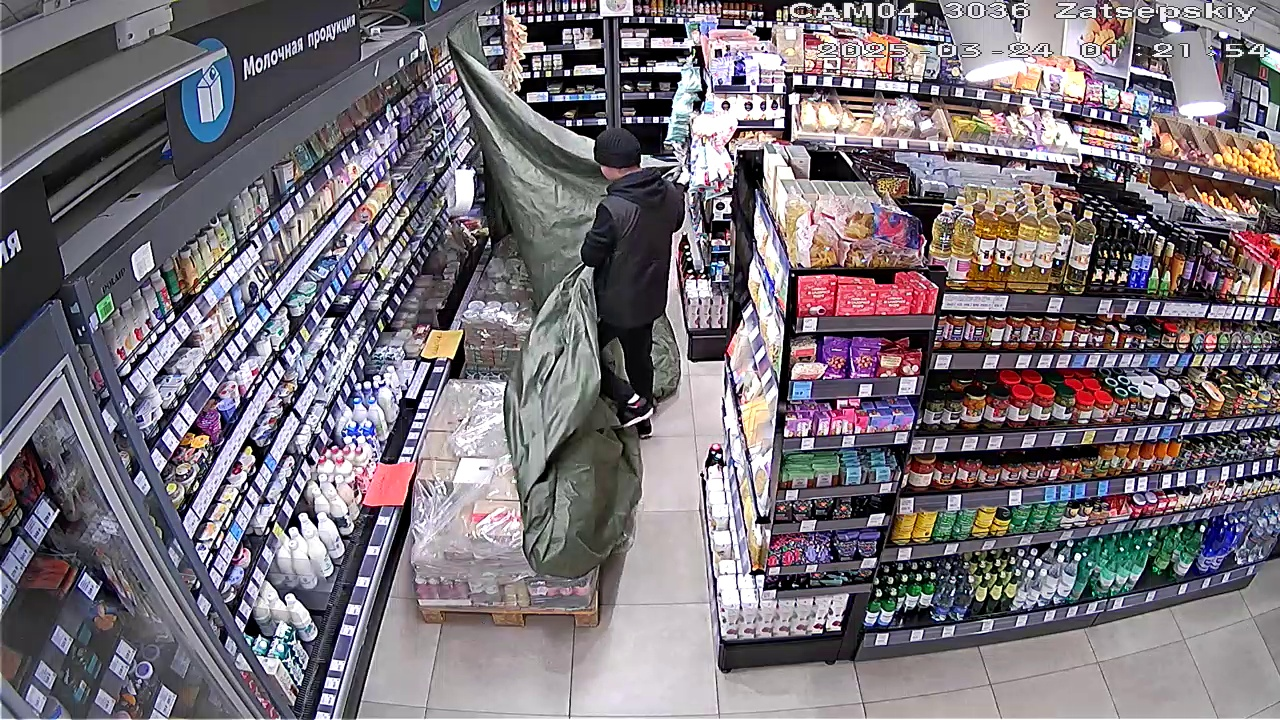Human: (575, 122, 676, 422)
dome: (450, 30, 580, 267)
pallet: (426, 377, 583, 614)
